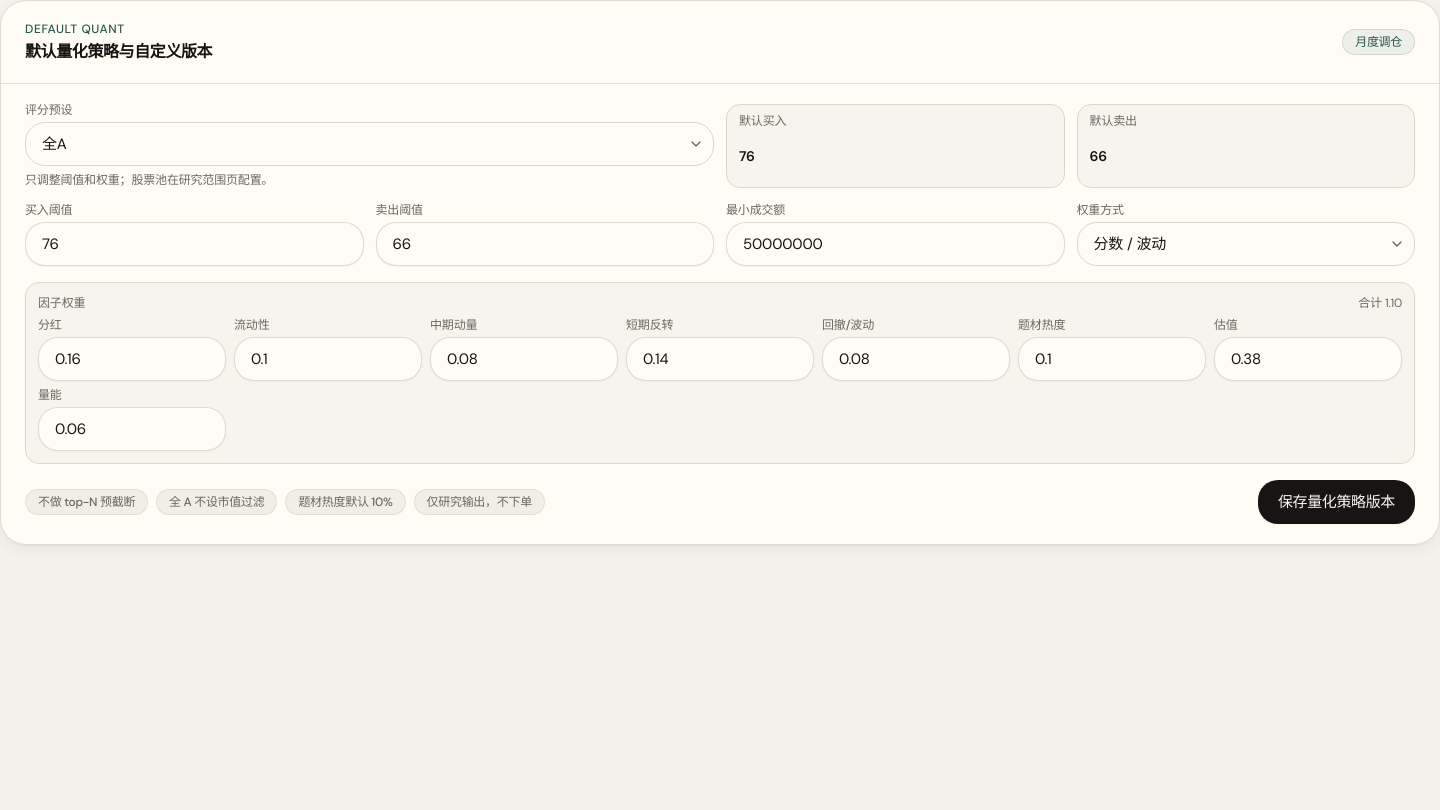
Test case: quant customizer saves a no-top-n strategy version for selected pool
Select "沪深300" in the dropdown labelled "评分预设" at (370, 144), box 25,122 -> 714,166
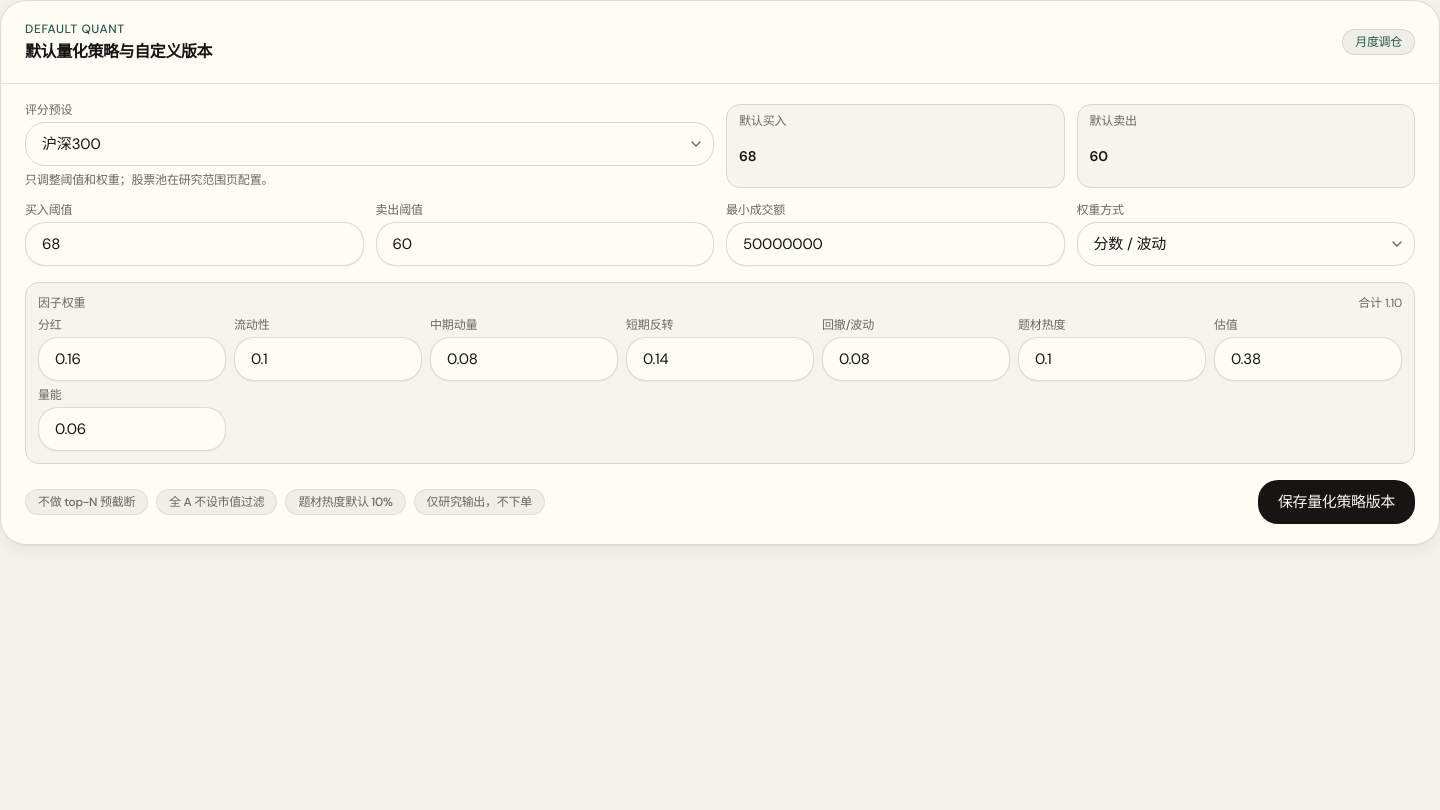
Replace the text in the number field named "买入阈值" with "70" at (194, 244), box 25,222 -> 364,266
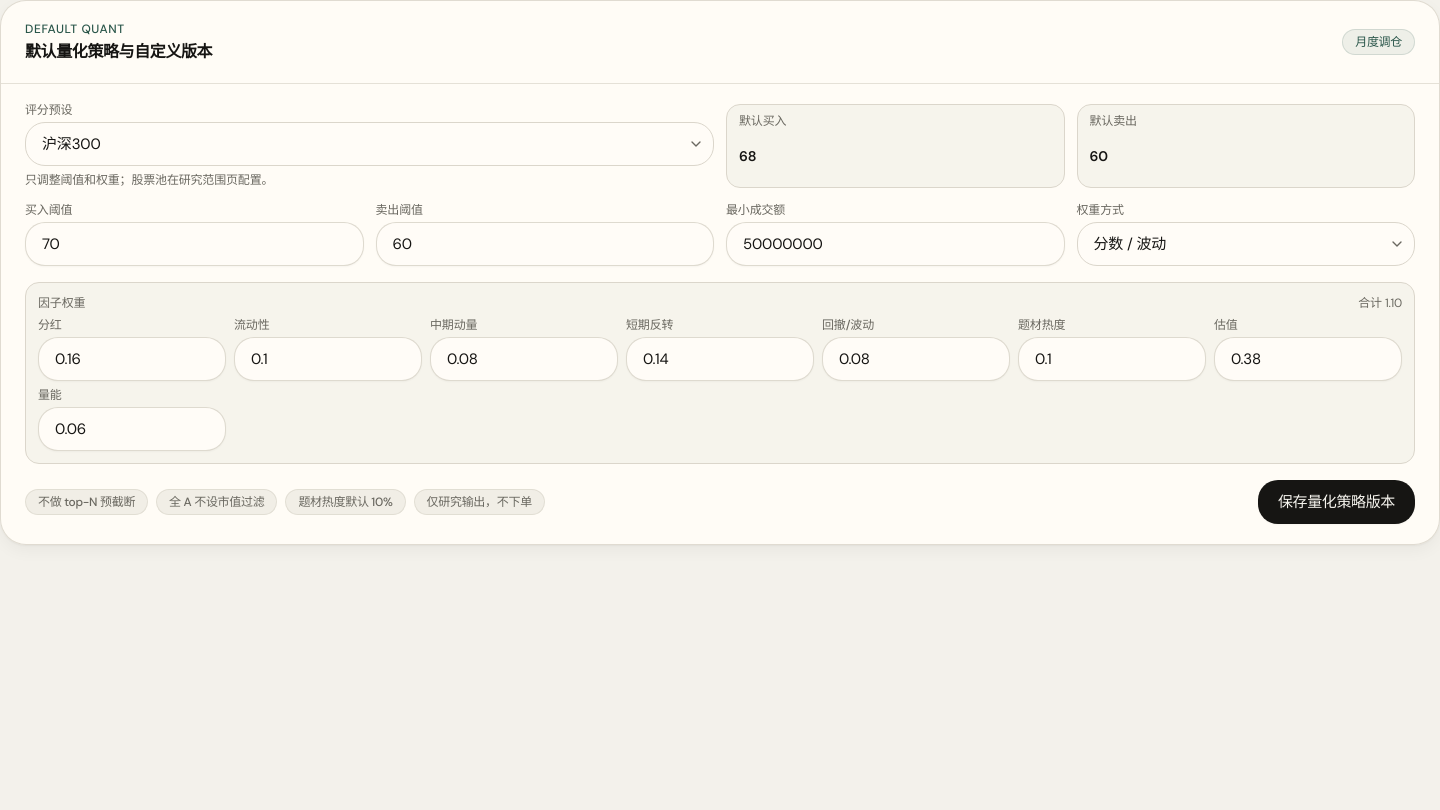
Click the button "保存量化策略版本" at (1336, 502), box 1258,480 -> 1415,524
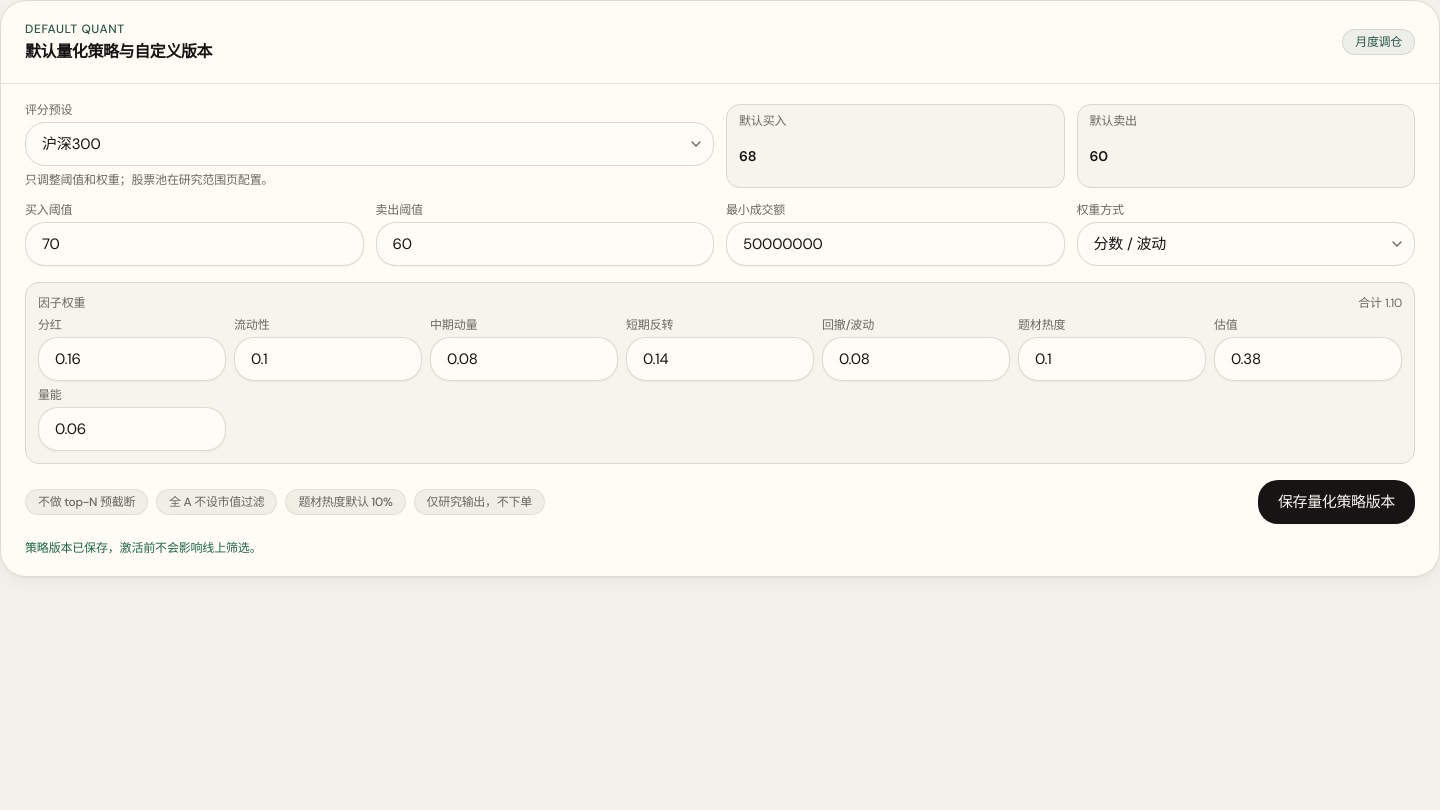
Expected: the text "策略版本已保存，激活前不会影响线上筛选。" is shown, 25,540 -> 262,556
